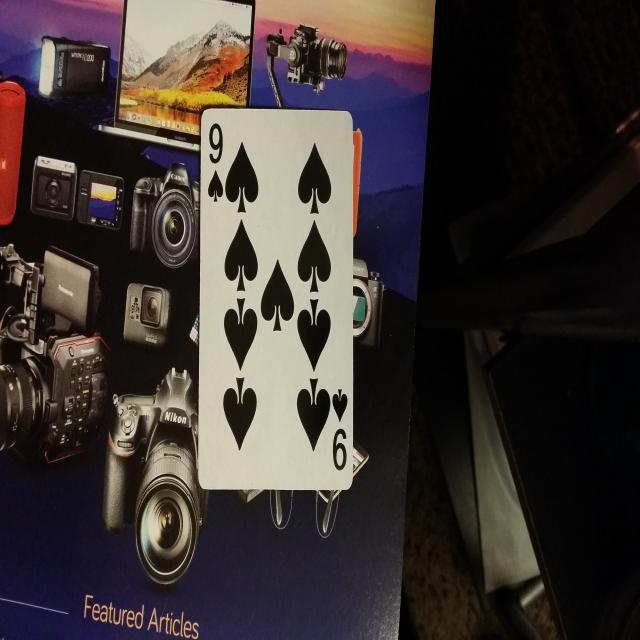9s: (201, 117, 229, 212), (328, 383, 354, 477)
